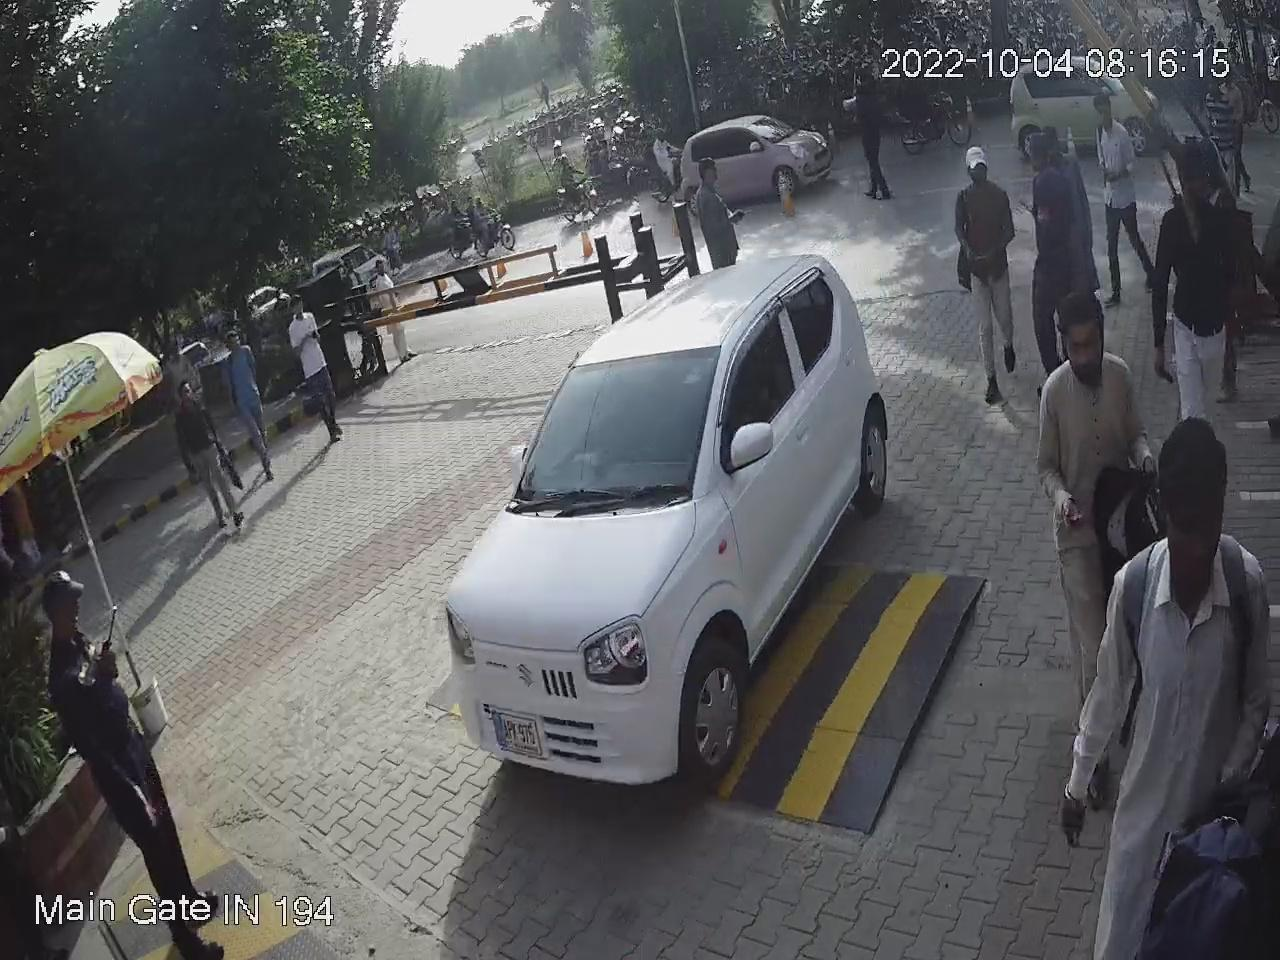windshield: (508, 345, 728, 505)
